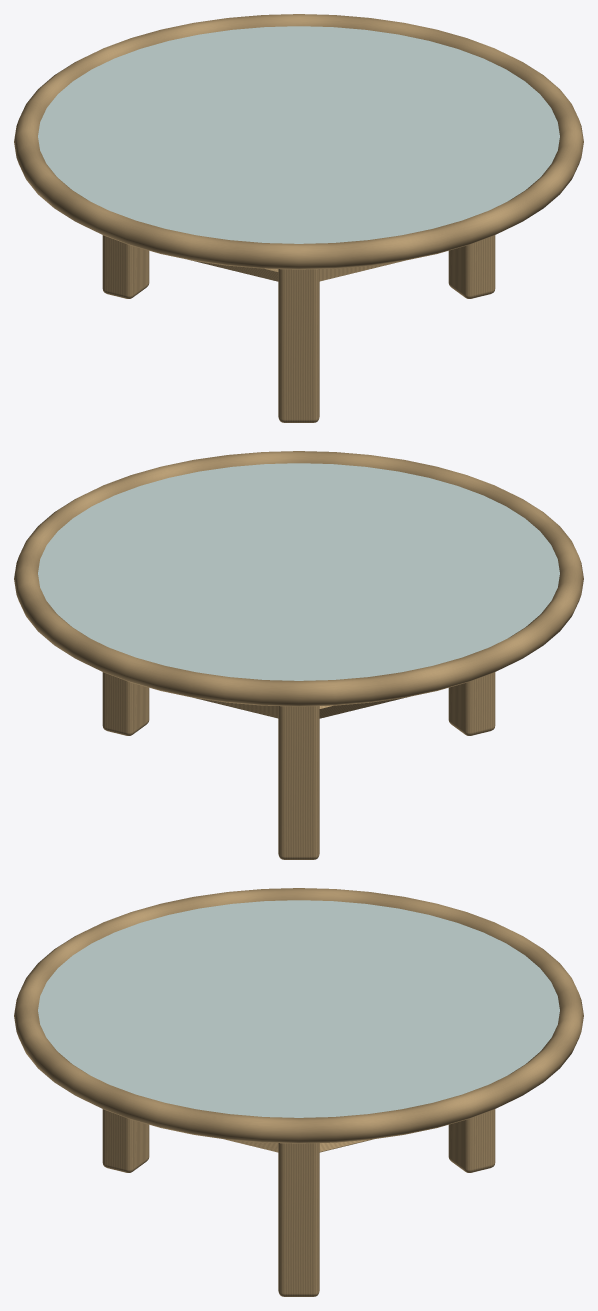
The model's file is stockholm-table.glb.
3 renders of one model, top to bottom at view 1: azimuth 30°, elevation 25°; view 2: azimuth 150°, elevation 25°; view 3: azimuth 270°, elevation 25°, orthographic.
Visible parts, largest first — view 1: STOCKHOLM 2025 Round glass coffee table; view 2: STOCKHOLM 2025 Round glass coffee table; view 3: STOCKHOLM 2025 Round glass coffee table.
Boxes of the visible parts, left/top/right/bottom form: STOCKHOLM 2025 Round glass coffee table: left=14, top=14, right=583, bottom=422; STOCKHOLM 2025 Round glass coffee table: left=14, top=451, right=583, bottom=859; STOCKHOLM 2025 Round glass coffee table: left=14, top=888, right=583, bottom=1296.
Size of the model in its own units: 0.97 by 0.38 by 0.97.
2 materials, 1 textured.
